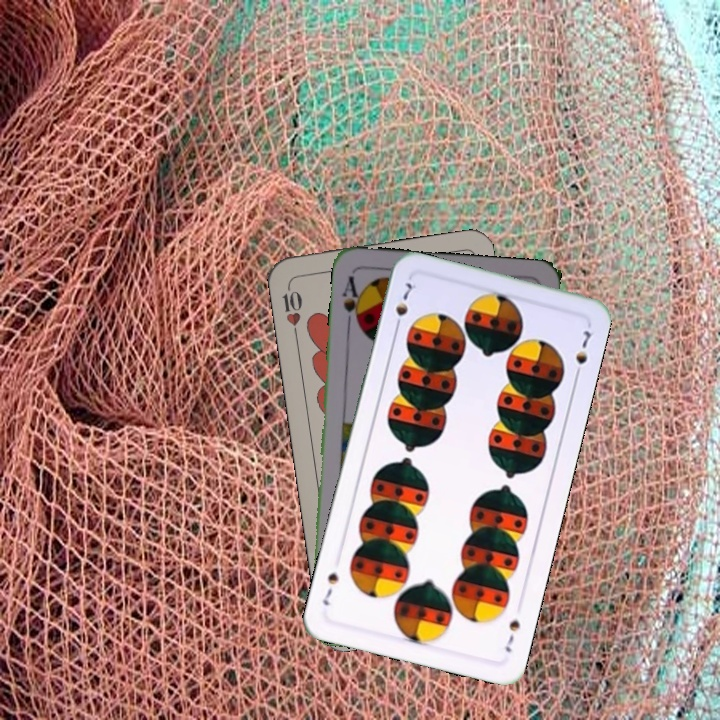H10: (278, 280, 305, 339)
S7: (390, 278, 419, 334), (501, 615, 523, 655)
SA: (338, 272, 365, 331)
